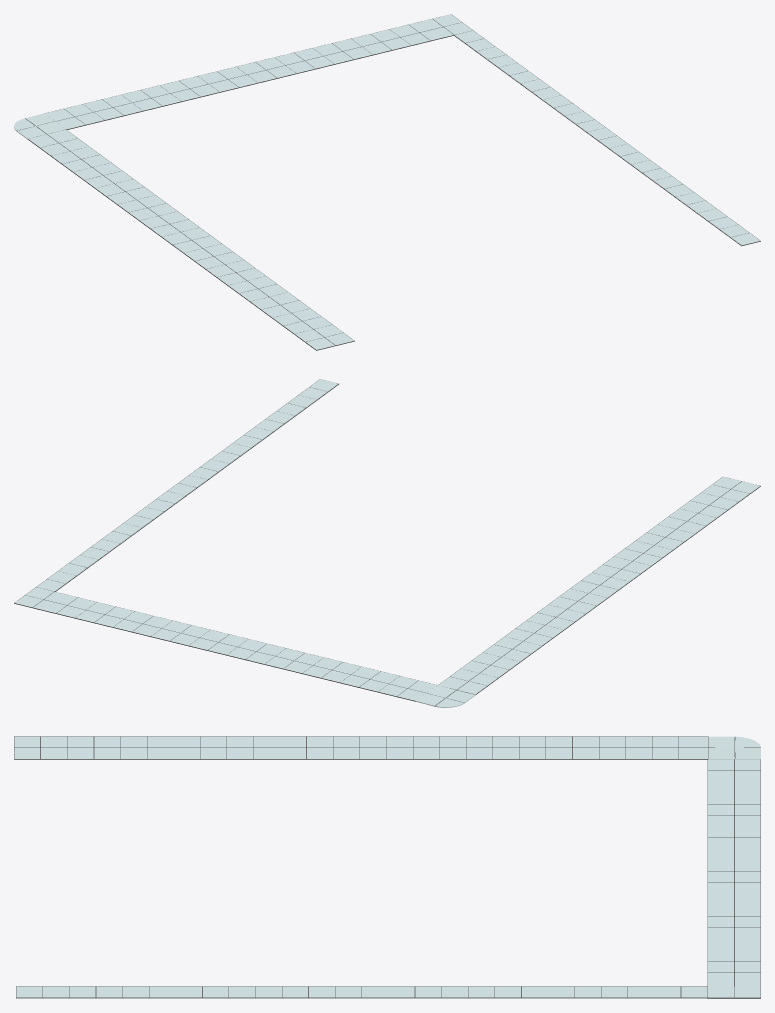
Rendered from sidewalk_2_assembled.fbx.
3 renders of one model, top to bottom at view 1: azimuth 30°, elevation 25°; view 2: azimuth 150°, elevation 25°; view 3: azimuth 270°, elevation 25°, orthographic. The views are drawn at different scales.
Parts seen in each view (by area): view 1: Plane.155; view 2: Plane.155; view 3: Plane.155.
Part boxes in pixels (x1,y1,x2,y2): Plane.155: (14, 14, 760, 350); Plane.155: (14, 379, 760, 707); Plane.155: (14, 736, 760, 998).
Bounding box in the file's own units: 23.17 × 0.0504 × 27.99.
2 materials, 2 textured.
